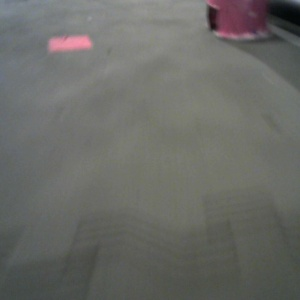right: (202, 1, 298, 84)
